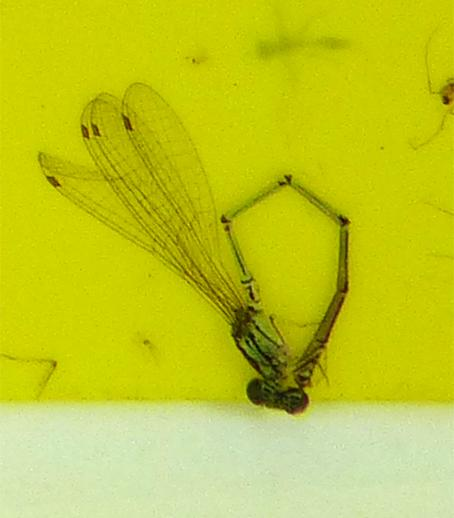Odonata: (100, 100, 354, 418)
